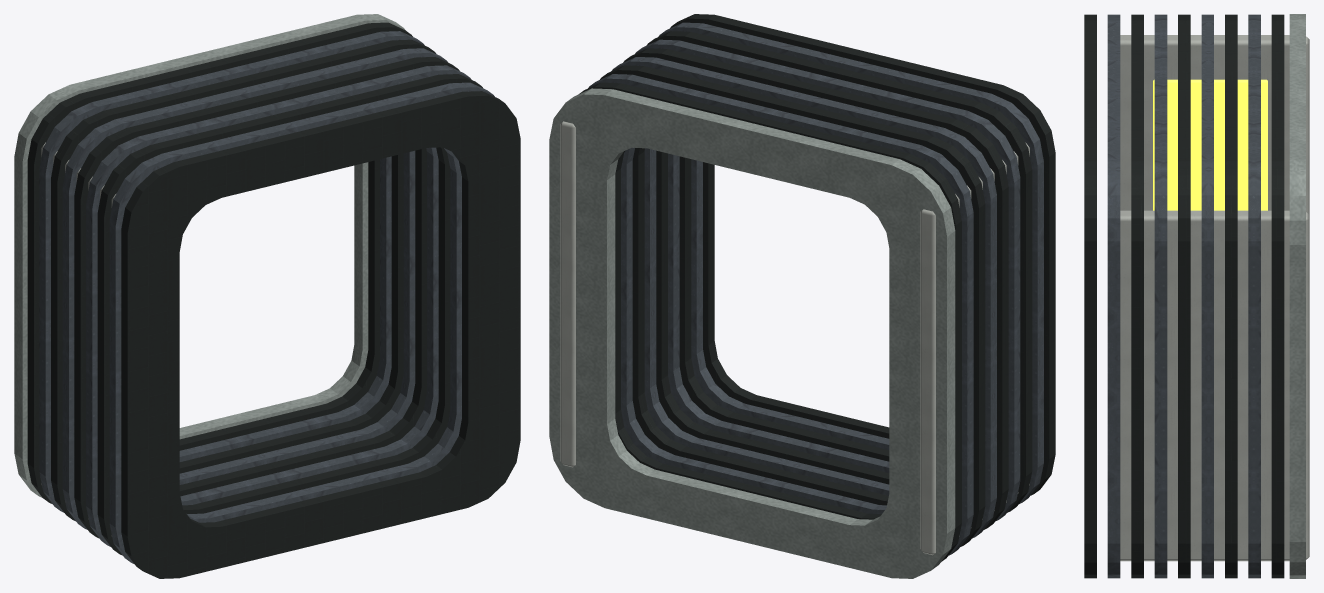
Rendered from bridge.fbx.
The picture shows the model from 3 angles, left to right: view 1: azimuth 30°, elevation 25°; view 2: azimuth 150°, elevation 25°; view 3: azimuth 270°, elevation 25°; orthographic projection.
Visible parts, largest first — view 1: SM_aster_bridge; view 2: SM_aster_bridge; view 3: SM_aster_bridge.
Part boxes in pixels (x1,y1,x2,y2): SM_aster_bridge: (14, 14, 520, 578); SM_aster_bridge: (549, 14, 1055, 578); SM_aster_bridge: (1084, 14, 1309, 578).
Size of the model in its own units: 2.55 by 2.53 by 1.25.
5 materials, 4 textured.
